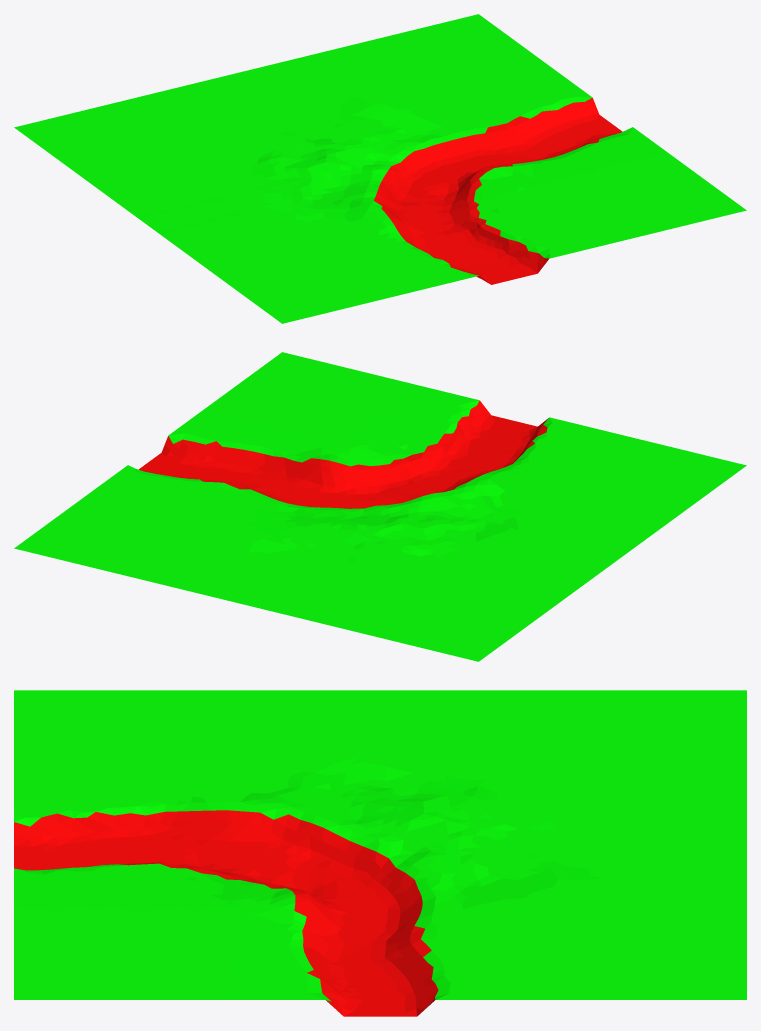
File: RiverAngle03.fbx
3 renders of one model, top to bottom at view 1: azimuth 30°, elevation 25°; view 2: azimuth 150°, elevation 25°; view 3: azimuth 270°, elevation 25°, orthographic. The views are drawn at different scales.
Parts seen in each view (by area): view 1: RiverAngle03; view 2: RiverAngle03; view 3: RiverAngle03.
Part boxes in pixels (x1,y1,x2,y2): RiverAngle03: (14,14,746,323); RiverAngle03: (14,352,746,661); RiverAngle03: (14,690,746,1016).
Bounding box in the file's own units: 5009 × 216 × 5009.
